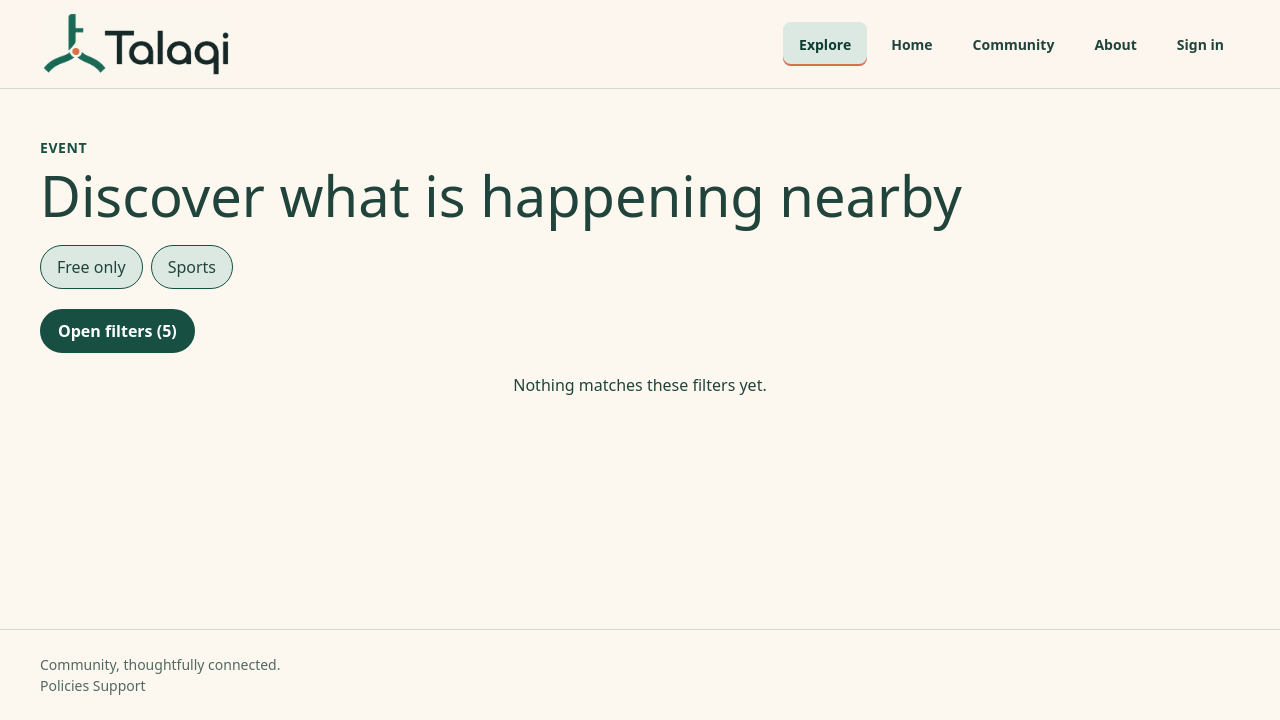
ExplorePage › passes bounded URL filters and renders localized controls
The width and height of the screenshot is (1280, 720).
Step 1. Click the button "Open filters (5)" → [117, 331], box [40, 309, 195, 353]
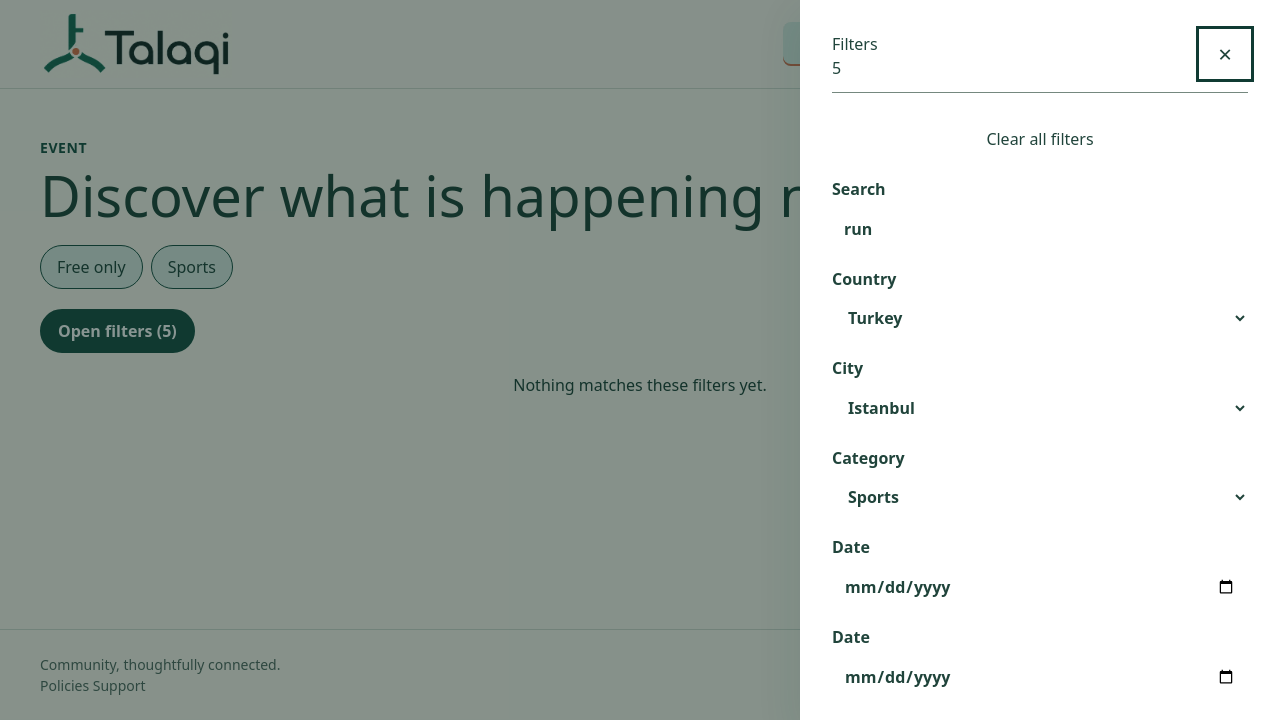
Check: the message shows "Nothing matches", box [513, 374, 767, 396]
Check: the dialog "Filters" is shown, box [800, 0, 1279, 719]
